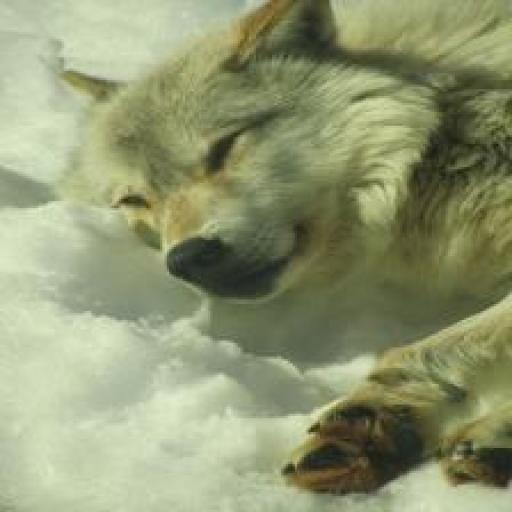wolf: (61, 0, 512, 496)
